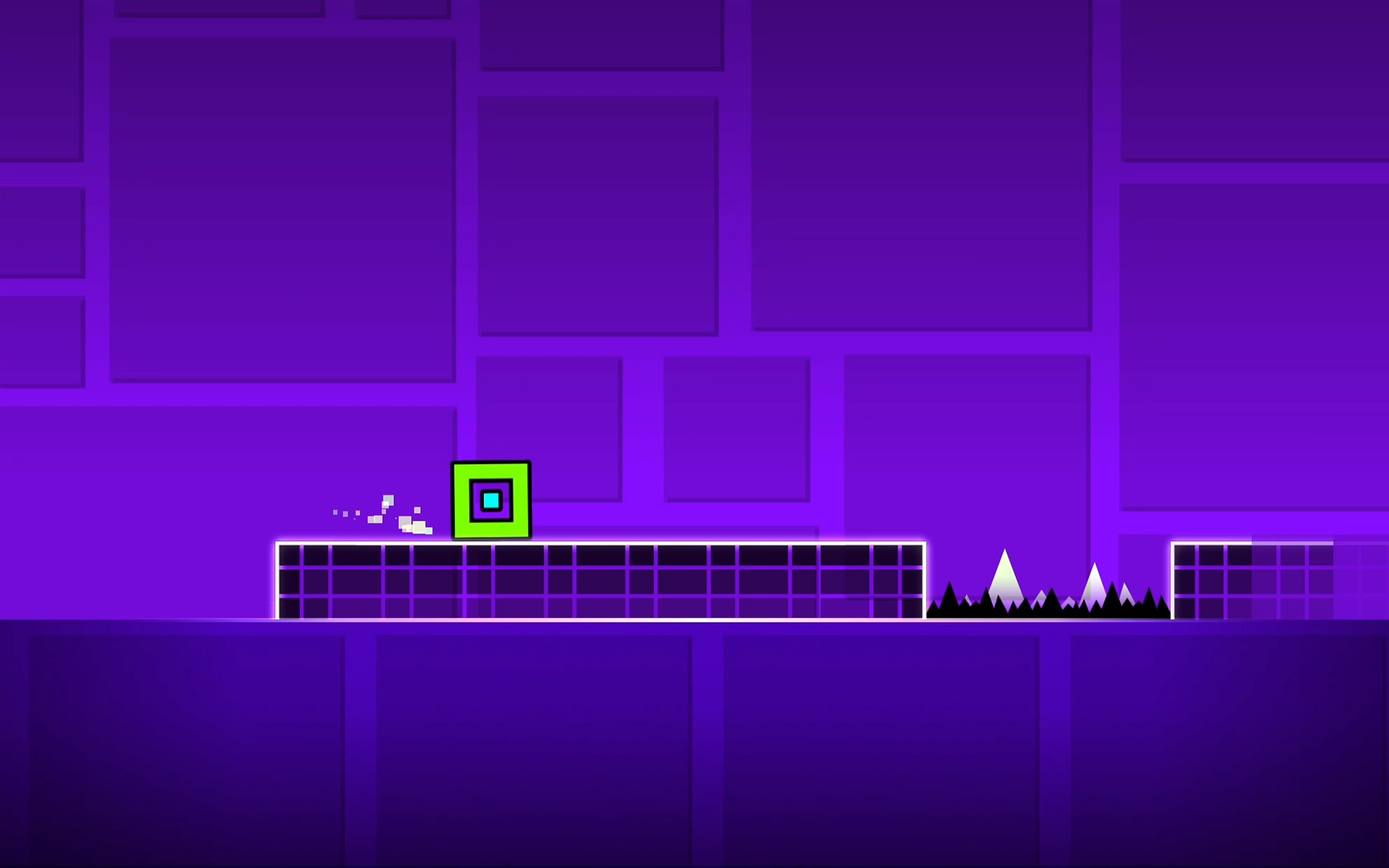Block2: (274, 540, 923, 616), (1171, 542, 1384, 621)
Player: (451, 460, 531, 538)
Spike3: (929, 584, 1168, 622)
